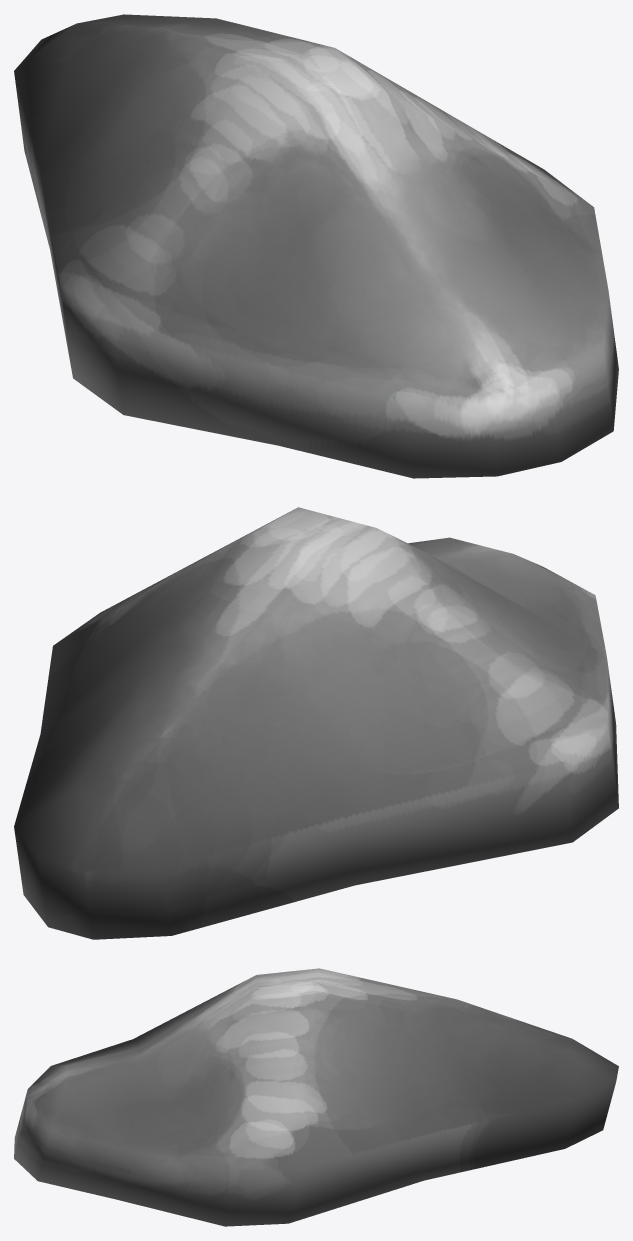
File: scale.glb
3 views of the same model, one above another, from view 1: azimuth 30°, elevation 25°; view 2: azimuth 150°, elevation 25°; view 3: azimuth 270°, elevation 25° (orthographic). The views are drawn at different scales.
Parts seen in each view (by area): view 1: DragonScale; view 2: DragonScale; view 3: DragonScale.
Boxes of the visible parts, box(x1,y1,x2,y2) form: DragonScale: box(14, 14, 618, 478); DragonScale: box(14, 507, 618, 939); DragonScale: box(14, 968, 618, 1226).
Bounding box in the file's own units: 2.98 × 1.46 × 4.79.
1 material, 1 textured.
